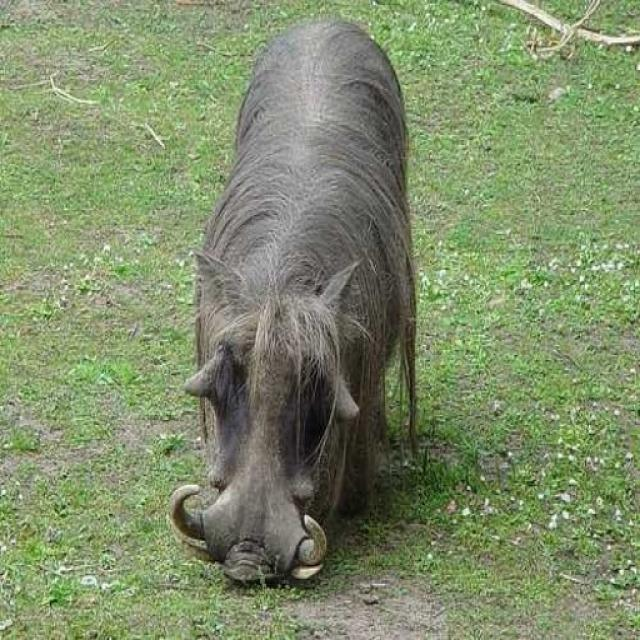pig: (174, 3, 469, 604)
